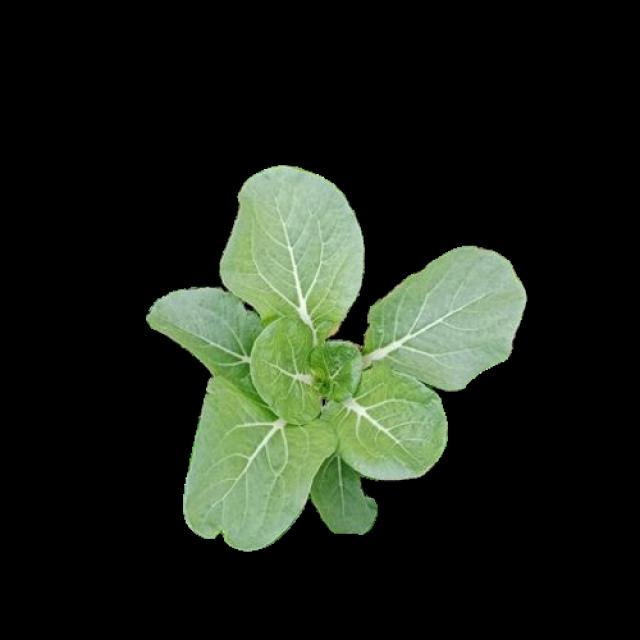healthy: (144, 163, 524, 545)
not-mature: (146, 165, 526, 548)
